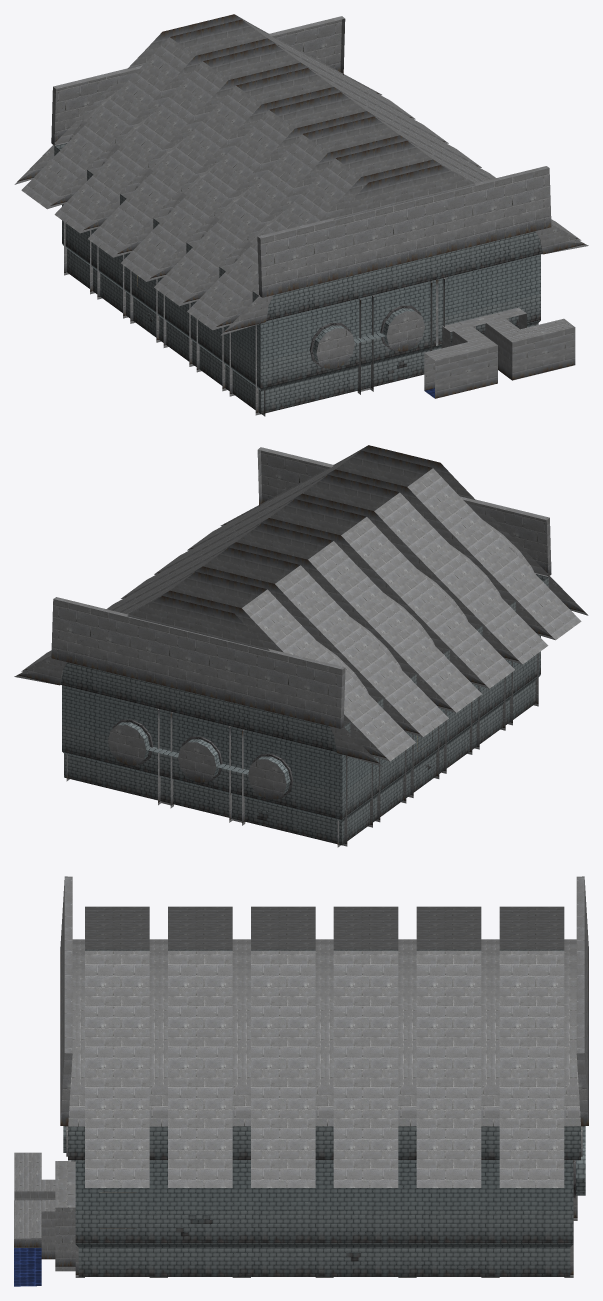
File: wallsfixed.fbx
3 views of the same model, one above another, from view 1: azimuth 30°, elevation 25°; view 2: azimuth 150°, elevation 25°; view 3: azimuth 270°, elevation 25° (orthographic). The views are drawn at different scales.
Parts seen in each view (by area): view 1: Cylinder.006, Plane.018, Plane.100, Plane.095, Cube.017, Plane.097, Cylinder.024, Plane.099, Cylinder.023, Cylinder.022; view 2: Cylinder.006, Plane.018, Plane.099, Plane.091, Plane.093, Cylinder.023, Plane.100, Cylinder.024, Cylinder.022, Cylinder.028; view 3: Cylinder.006, Plane.018, Cube.017, Plane.100, Plane.099, Cylinder.023, Cylinder.024.
Boxes of the visible parts, x1=… form: Cylinder.006: x1=21, y1=19, x2=581, y2=330; Plane.018: x1=54, y1=143, x2=542, y2=414; Plane.100: x1=257, y1=166, x2=551, y2=297; Plane.095: x1=260, y1=280, x2=435, y2=388; Cube.017: x1=424, y1=307, x2=575, y2=398; Plane.097: x1=438, y1=254, x2=540, y2=345; Cylinder.024: x1=220, y1=165, x2=588, y2=335; Plane.099: x1=51, y1=16, x2=345, y2=145; Cylinder.023: x1=14, y1=14, x2=381, y2=184; Cylinder.022: x1=64, y1=204, x2=538, y2=416; Cylinder.006: x1=21, y1=450, x2=581, y2=761; Plane.018: x1=60, y1=574, x2=548, y2=845; Plane.099: x1=51, y1=597, x2=345, y2=728; Plane.091: x1=167, y1=711, x2=342, y2=819; Plane.093: x1=62, y1=685, x2=178, y2=776; Cylinder.023: x1=14, y1=596, x2=382, y2=766; Plane.100: x1=257, y1=447, x2=551, y2=576; Cylinder.024: x1=220, y1=445, x2=588, y2=615; Cylinder.022: x1=64, y1=653, x2=538, y2=847; Cylinder.028: x1=156, y1=708, x2=173, y2=808; Cylinder.006: x1=75, y1=906, x2=573, y2=1187; Plane.018: x1=68, y1=949, x2=580, y2=1276; Cube.017: x1=14, y1=1152, x2=75, y2=1286; Plane.100: x1=60, y1=876, x2=72, y2=1126; Plane.099: x1=576, y1=876, x2=588, y2=1126; Cylinder.023: x1=573, y1=939, x2=582, y2=1156; Cylinder.024: x1=66, y1=939, x2=75, y2=1156.
Bounding box in the file's own units: 3151 × 1763 × 3395.
8 materials, 8 textured.
